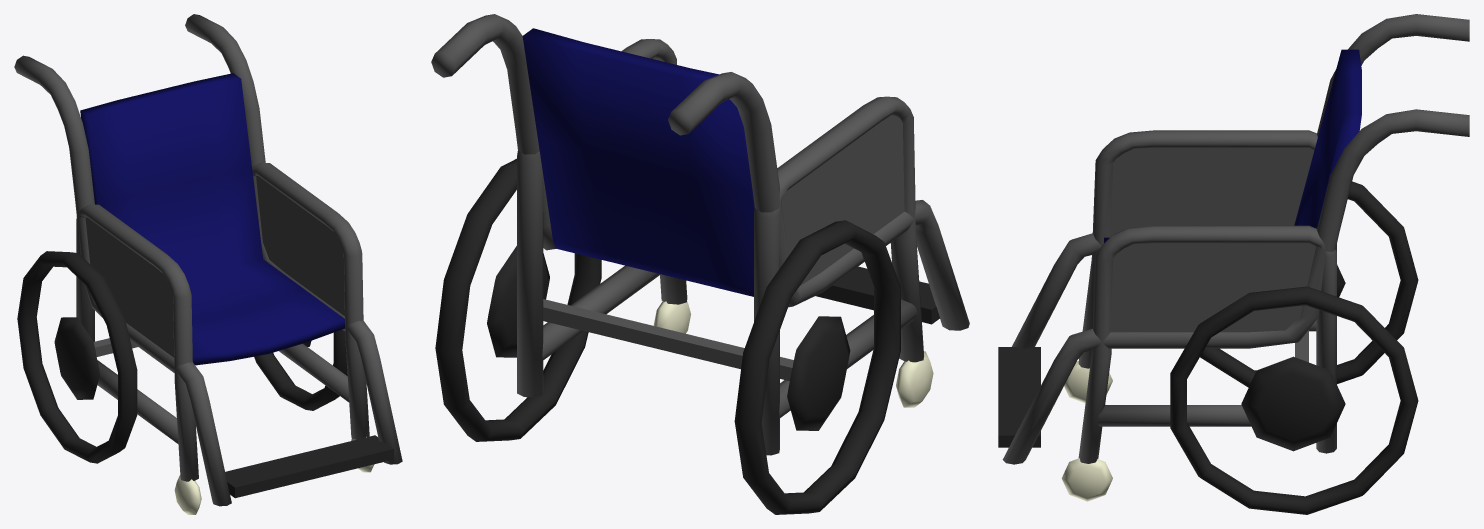
File: wheelchair.FBX
3 renders of one model, left to right at view 1: azimuth 30°, elevation 25°; view 2: azimuth 150°, elevation 25°; view 3: azimuth 270°, elevation 25°, orthographic. The views are drawn at different scales.
Visible parts, largest first — view 1: Cylinder002, Box001, Torus001, Sphere002; view 2: Cylinder002, Torus001, Box001, Sphere002; view 3: Cylinder002, Torus001, Box001, Sphere002.
Part boxes in pixels (x1=…): Cylinder002: x1=14, y1=14, x2=402, y2=506; Box001: x1=80, y1=73, x2=344, y2=365; Torus001: x1=17, y1=251, x2=393, y2=498; Sphere002: x1=174, y1=437, x2=374, y2=514; Cylinder002: x1=431, y1=14, x2=969, y2=455; Torus001: x1=435, y1=158, x2=939, y2=514; Box001: x1=522, y1=28, x2=754, y2=296; Sphere002: x1=653, y1=301, x2=933, y2=407; Cylinder002: x1=1002, y1=14, x2=1469, y2=464; Torus001: x1=998, y1=181, x2=1418, y2=514; Box001: x1=1104, y1=49, x2=1361, y2=242; Sphere002: x1=1061, y1=361, x2=1112, y2=501.
Size of the model in its own units: 70.72 by 99.03 by 108.
